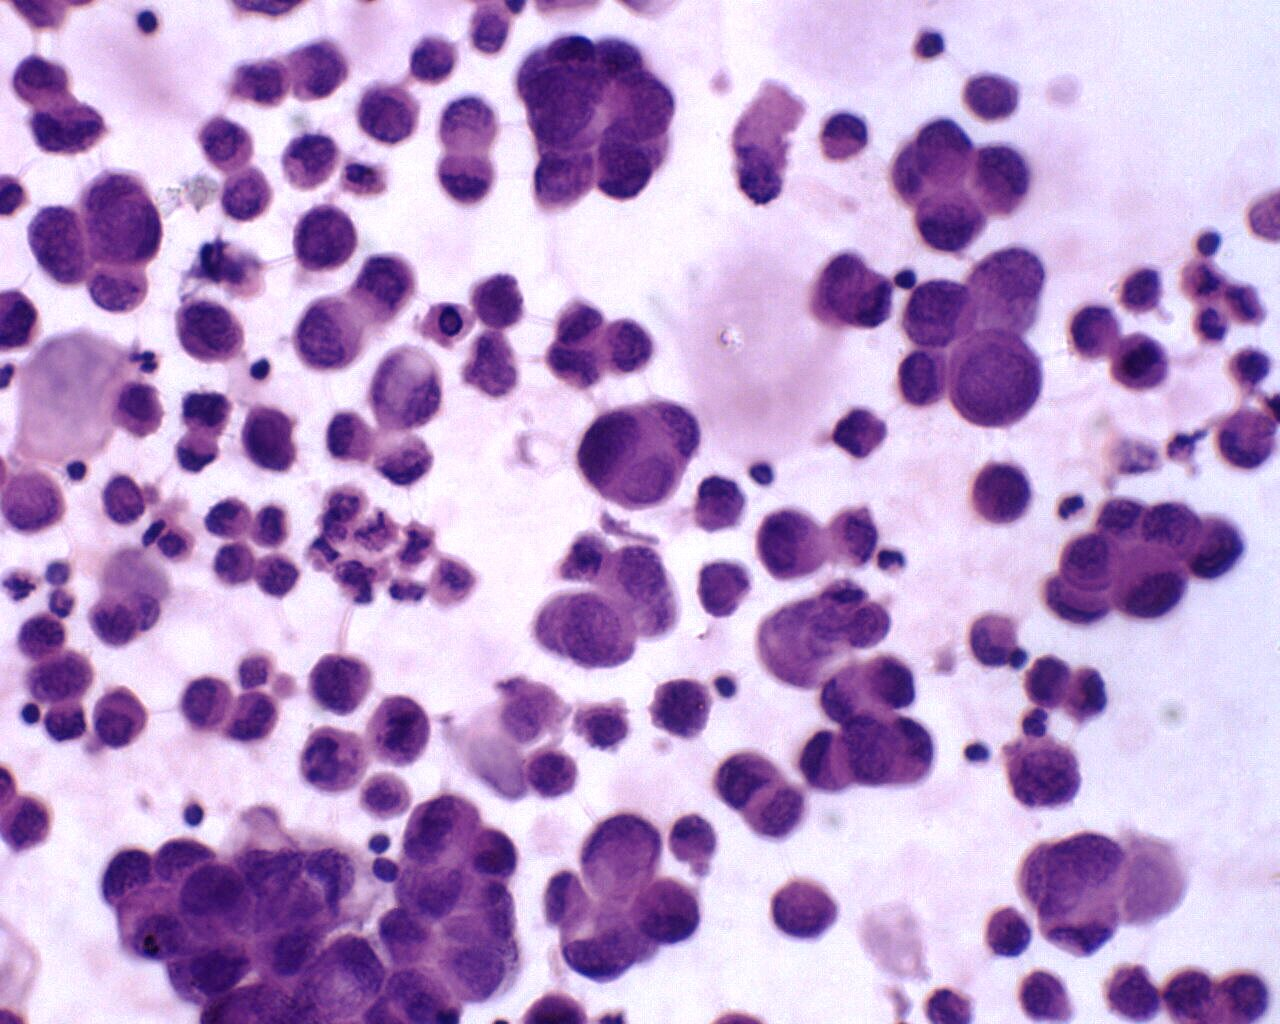ab: (575, 392, 700, 520), (946, 324, 1044, 434), (24, 202, 91, 292), (627, 874, 706, 947), (296, 718, 370, 795), (898, 272, 972, 346), (171, 293, 249, 364), (368, 686, 439, 764), (351, 77, 425, 148), (757, 507, 827, 582), (307, 644, 377, 718), (914, 186, 990, 255), (289, 202, 360, 274), (965, 456, 1037, 527), (971, 137, 1033, 217), (766, 878, 837, 942), (1058, 528, 1125, 594), (238, 403, 302, 472), (1112, 328, 1176, 397), (649, 677, 713, 741), (979, 898, 1039, 965), (88, 686, 152, 749), (282, 127, 341, 194), (195, 112, 257, 173), (217, 168, 274, 226), (181, 674, 234, 734), (225, 691, 282, 745), (131, 6, 166, 44)
lymph: (1191, 223, 1227, 262), (180, 794, 209, 828)
neutro: (872, 541, 913, 577)
